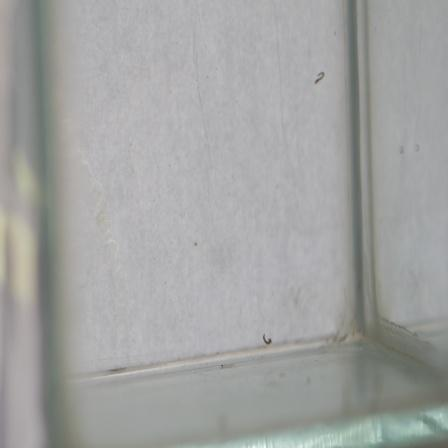Jentik-Nyamuk: (309, 65, 329, 89), (259, 327, 277, 349)
